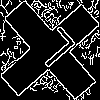L: (25, 25, 78, 77)
